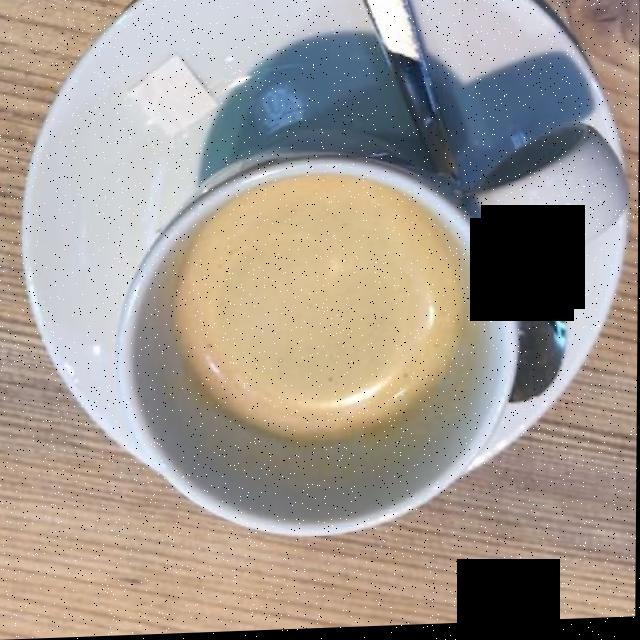espresso: (171, 180, 466, 441)
